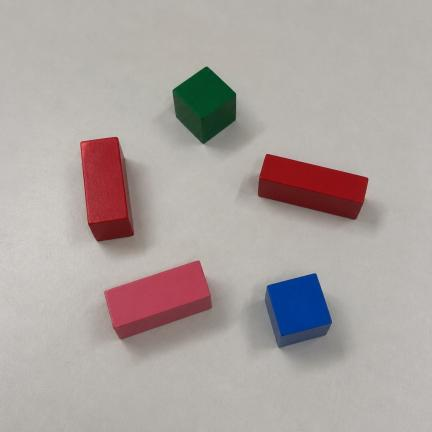BuildingBlocks: (105, 261, 211, 338), (258, 154, 367, 218), (81, 138, 133, 240), (265, 274, 331, 346), (173, 68, 236, 143)
